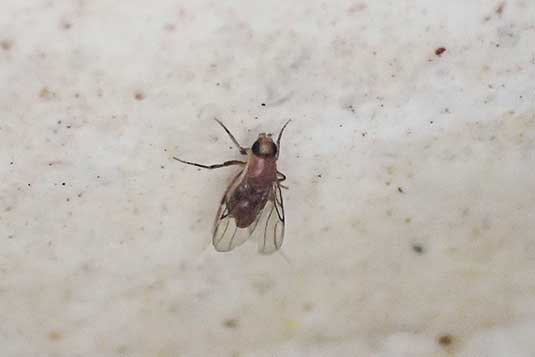phorid fly: (165, 99, 319, 270)
